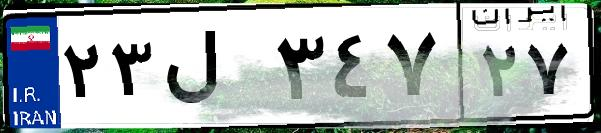2: (57, 26, 110, 100), (475, 38, 525, 113)
3: (270, 28, 330, 110), (110, 28, 158, 98)
4: (330, 28, 385, 110)
7: (385, 28, 445, 110), (525, 38, 570, 115)
ل: (158, 20, 270, 120)
